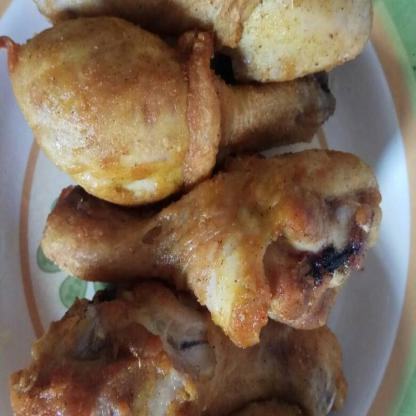ayam_goreng: (41, 151, 379, 347), (4, 17, 339, 203), (12, 287, 347, 415), (164, 0, 371, 75)
